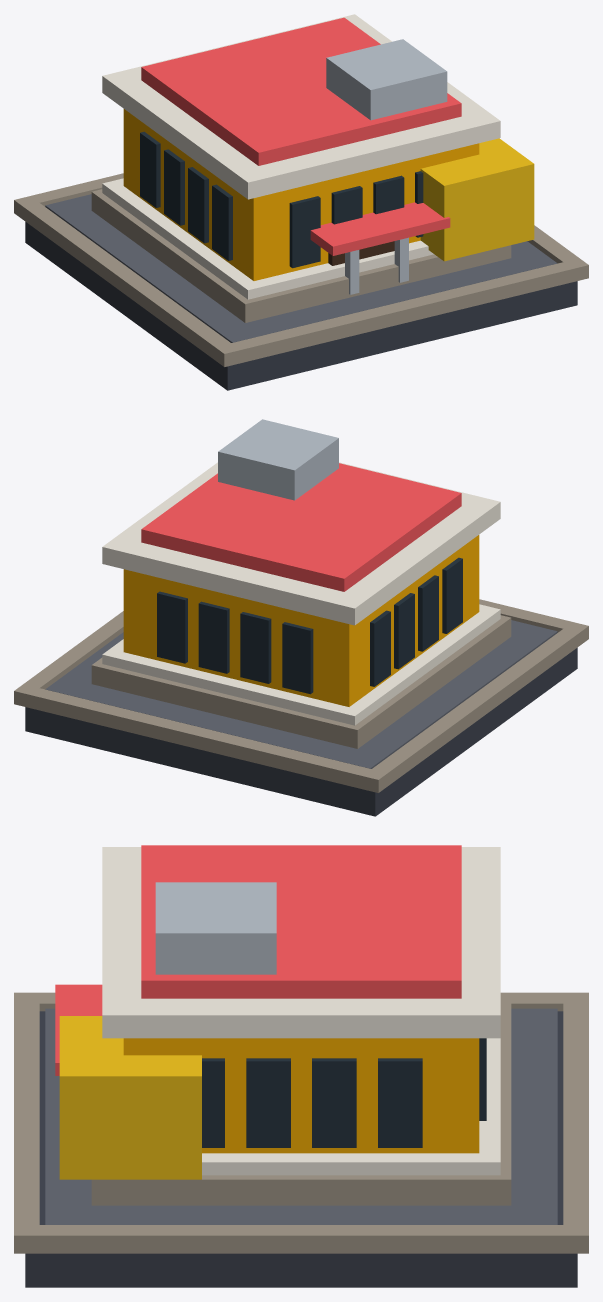
The model's file is city.delivery_hub.glb.
The picture shows the model from 3 angles, top to bottom: view 1: azimuth 30°, elevation 25°; view 2: azimuth 150°, elevation 25°; view 3: azimuth 270°, elevation 25°; orthographic projection. The views are drawn at different scales.
Visible parts, largest first — view 1: city.delivery_hub; view 2: city.delivery_hub; view 3: city.delivery_hub.
Boxes of the visible parts, left/top/right/bottom form: city.delivery_hub: left=14, top=14, right=588, bottom=390; city.delivery_hub: left=14, top=419, right=588, bottom=816; city.delivery_hub: left=14, top=845, right=588, bottom=1287.
Bounding box in the file's own units: 2.02 × 1.16 × 2.02.
